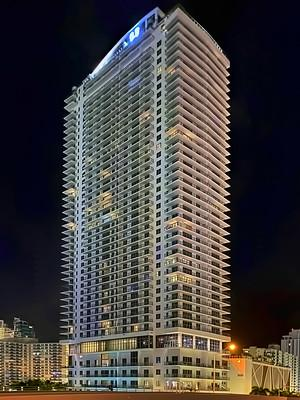building: (55, 3, 235, 396)
